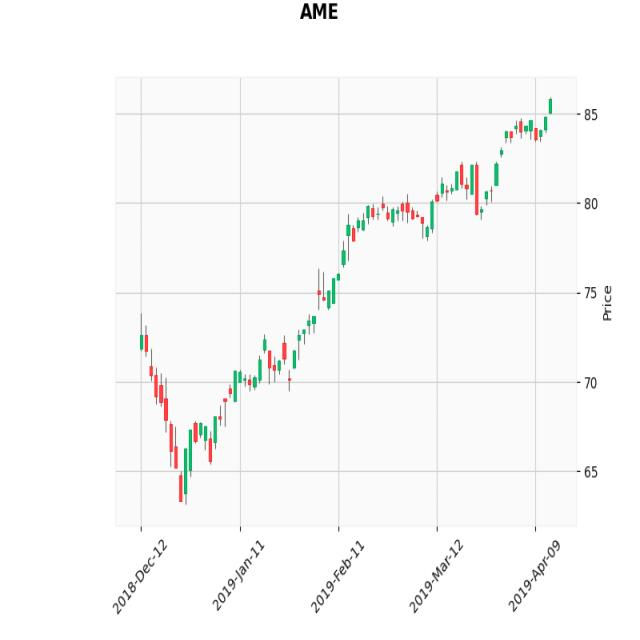Double-Bottom: (145, 378, 239, 516)
